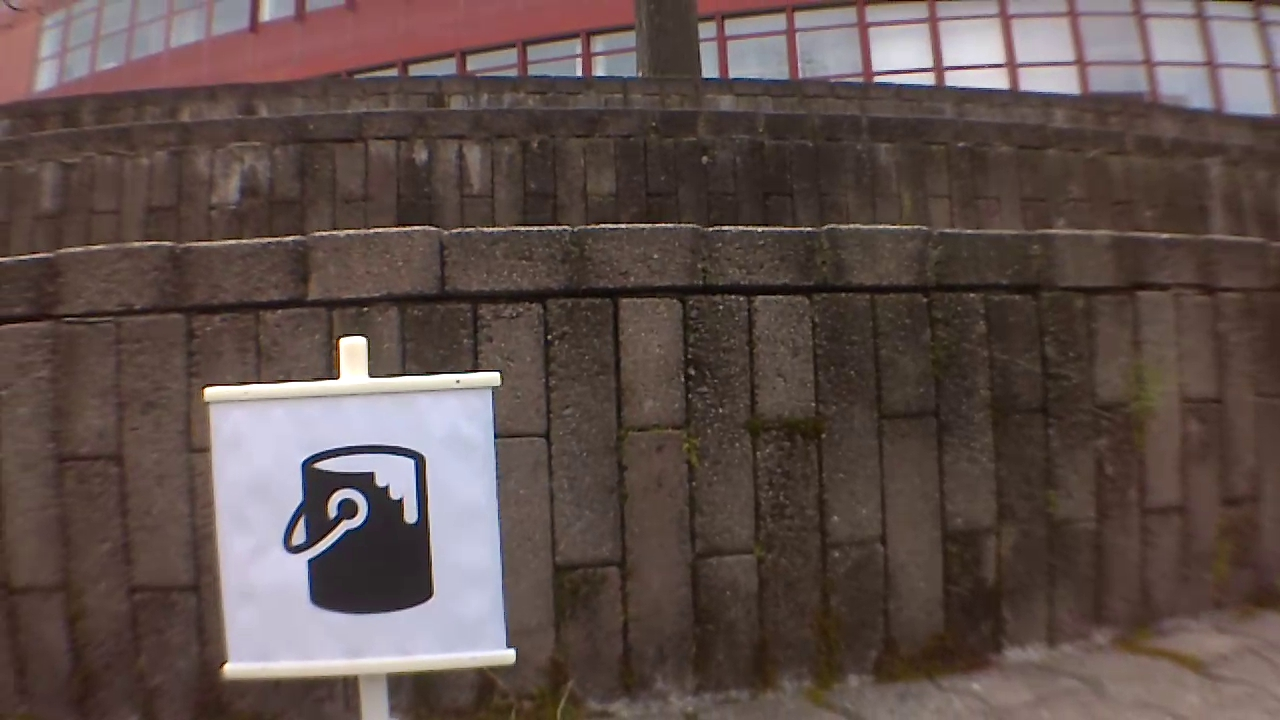bucket: (280, 441, 440, 620)
